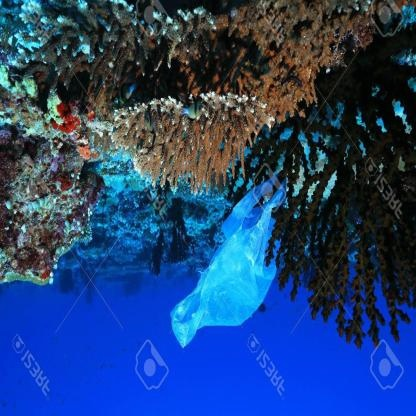pbag: (168, 170, 286, 350)
